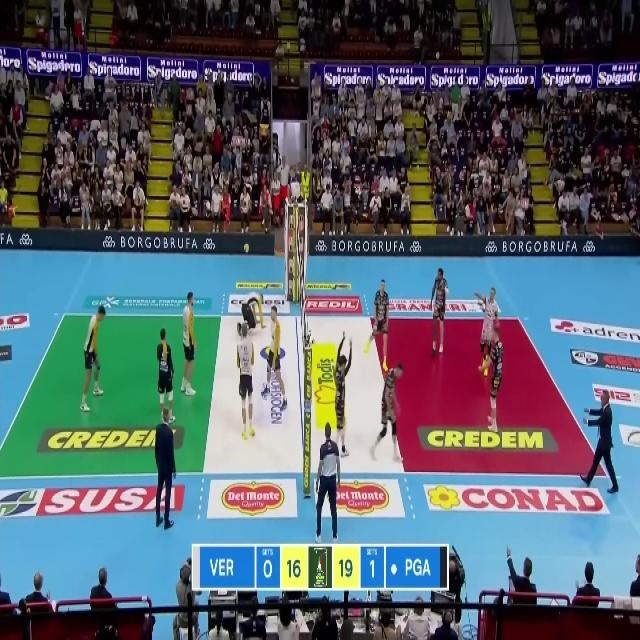volleyball court: (0, 315, 602, 473)
